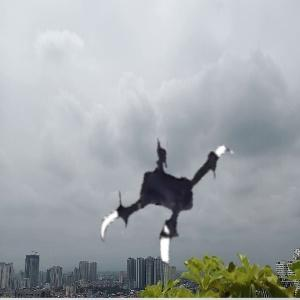drone: (91, 126, 253, 288)
